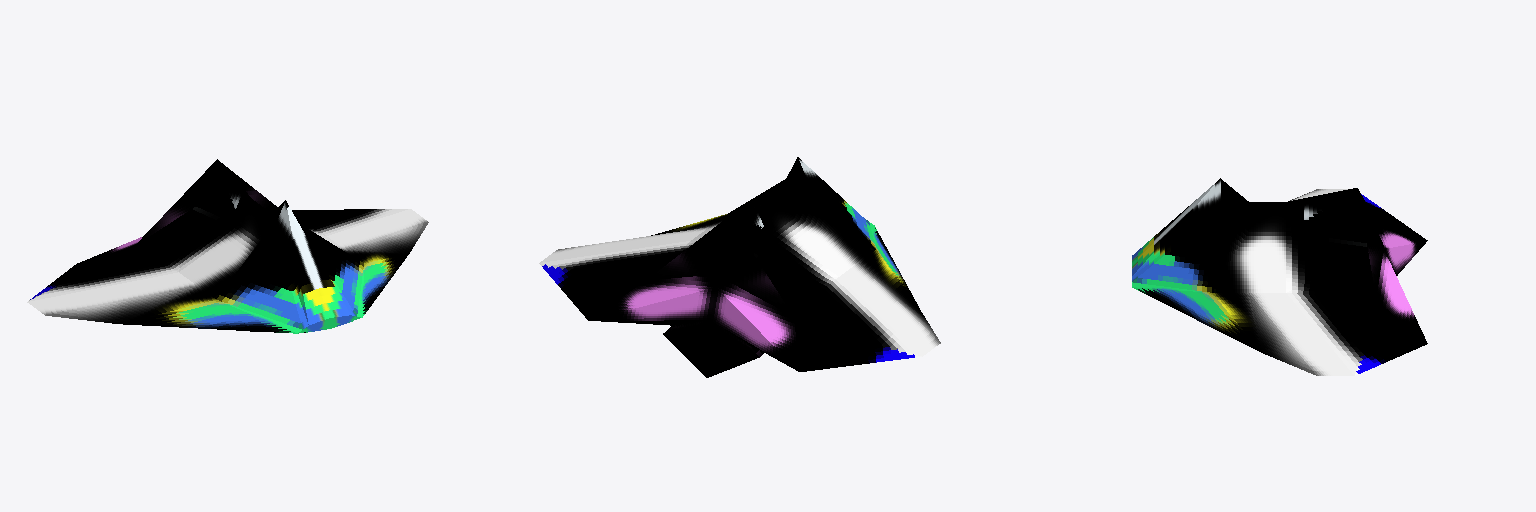
The picture shows the model from 3 angles: view 1: azimuth 30°, elevation 25°; view 2: azimuth 150°, elevation 25°; view 3: azimuth 270°, elevation 25°; orthographic projection.
Parts seen in each view (by area): view 1: Cube; view 2: Cube; view 3: Cube.
Part boxes in pixels (left/top/right/bottom): Cube: left=27, top=159, right=428, bottom=333; Cube: left=539, top=157, right=940, bottom=377; Cube: left=1132, top=178, right=1427, bottom=375.
Bounding box in the file's own units: 5.95 × 2.3 × 3.98.
1 materials, 1 textured.